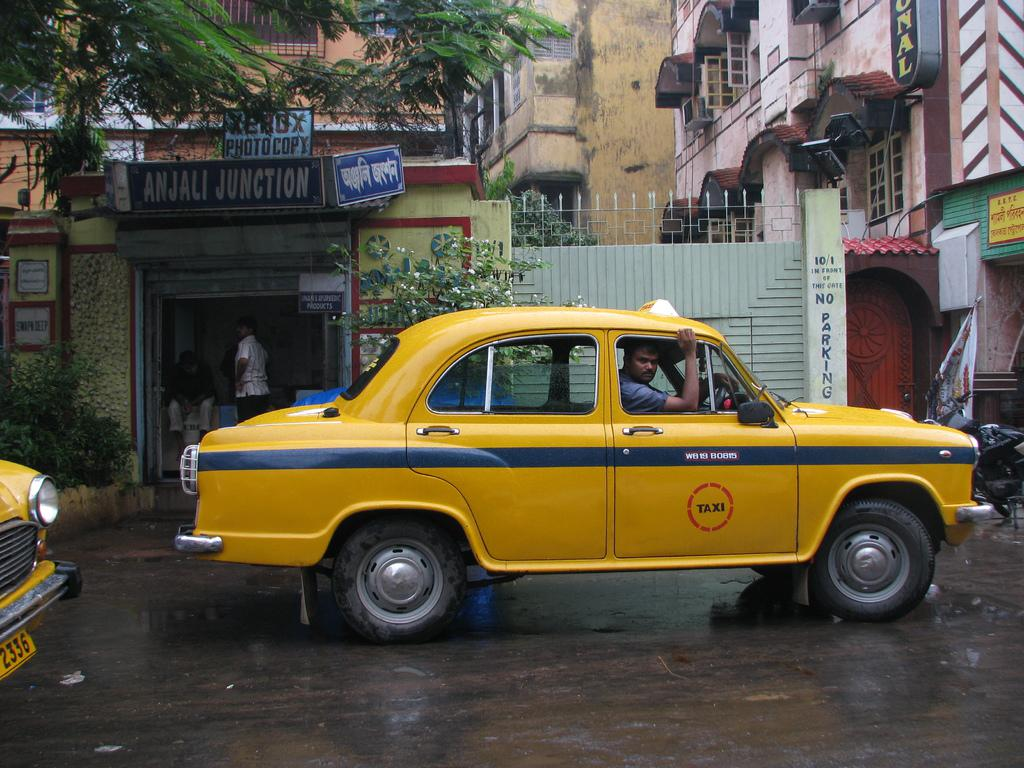taxi: (176, 300, 996, 647), (1, 460, 83, 683)
